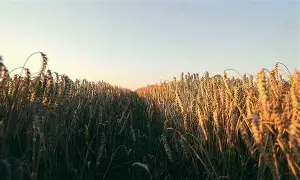crops: (0, 58, 295, 178), (0, 98, 43, 180), (138, 72, 193, 112)
